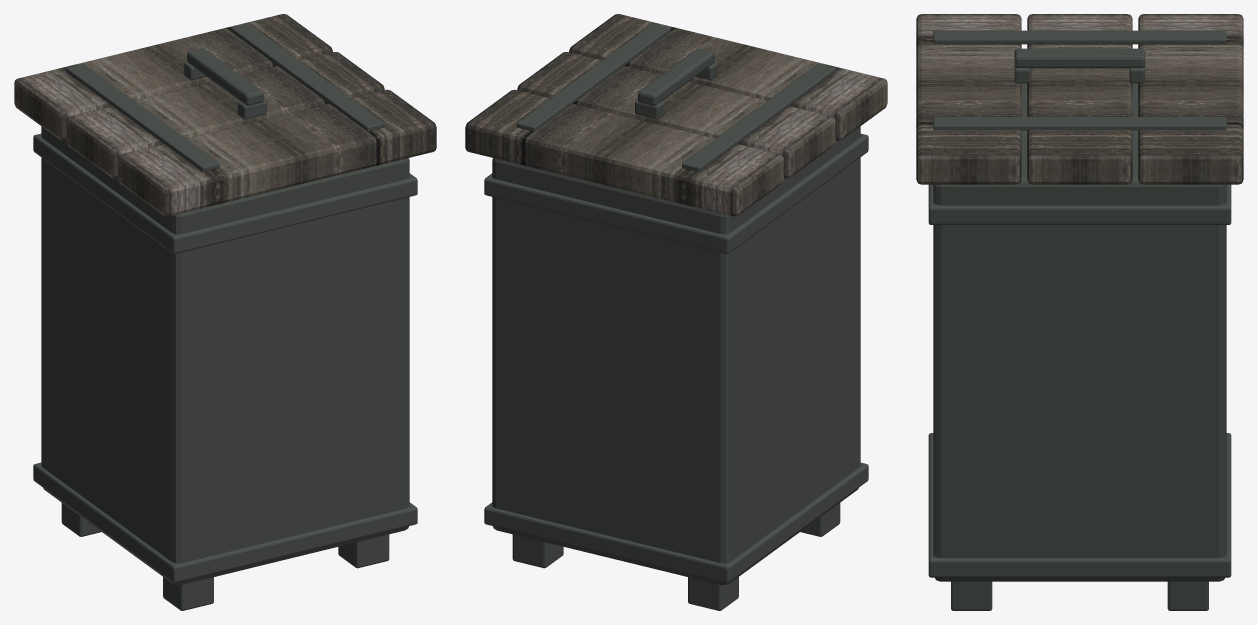
Rendered from street-bin.glb.
The picture shows the model from 3 angles, left to right: view 1: azimuth 30°, elevation 25°; view 2: azimuth 150°, elevation 25°; view 3: azimuth 270°, elevation 25°; orthographic projection. The views are drawn at different scales.
Parts seen in each view (by area): view 1: bin_Bench dark iron.001, bin_Smoke-aged cedar.049; view 2: bin_Bench dark iron.001, bin_Smoke-aged cedar.049; view 3: bin_Bench dark iron.001, bin_Smoke-aged cedar.049.
Boxes of the visible parts, bbox=[...] form: bin_Bench dark iron.001: bbox=[33, 23, 417, 610]; bin_Smoke-aged cedar.049: bbox=[14, 14, 436, 216]; bin_Bench dark iron.001: bbox=[484, 23, 868, 610]; bin_Smoke-aged cedar.049: bbox=[465, 14, 887, 216]; bin_Bench dark iron.001: bbox=[928, 30, 1231, 610]; bin_Smoke-aged cedar.049: bbox=[916, 14, 1243, 184].
Bounding box in the file's own units: 0.53 × 0.874 × 0.513.
2 materials, 1 textured.
